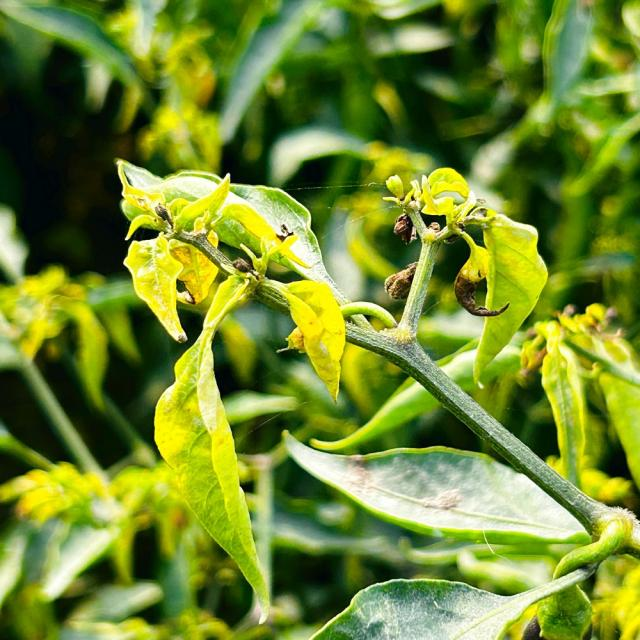Chilli_Leaf_Curl: (114, 157, 637, 637), (114, 156, 354, 624), (152, 272, 272, 624), (280, 428, 594, 547), (382, 166, 548, 387), (114, 157, 234, 343), (307, 569, 595, 639), (470, 210, 548, 388), (276, 278, 346, 404)
